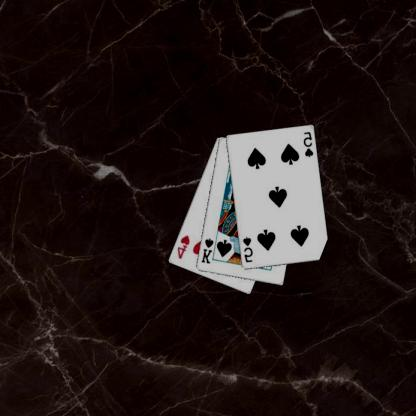4H: (176, 233, 192, 260)
5S: (242, 234, 256, 264), (302, 129, 316, 159)
KS: (201, 236, 217, 265)
